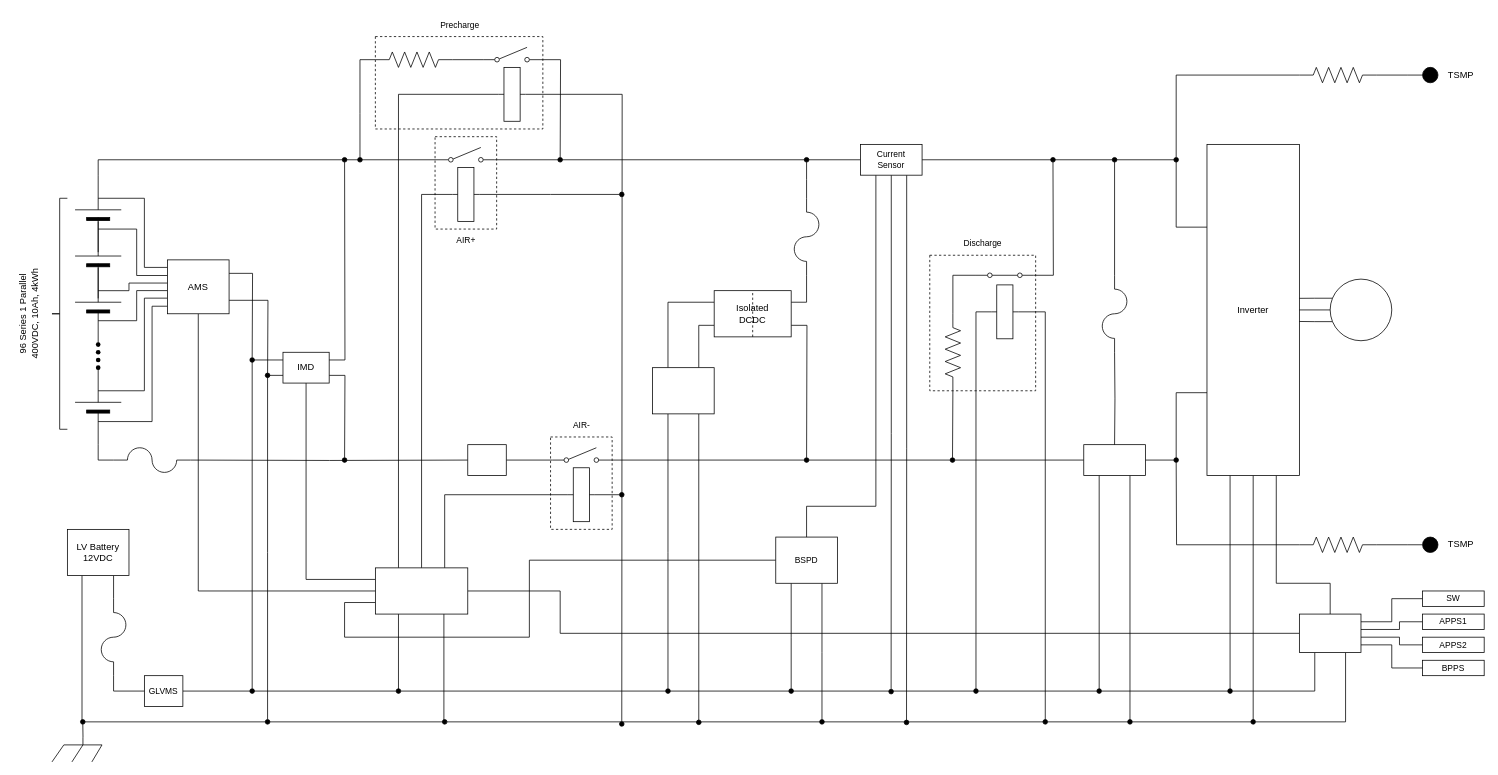
Image size: 1498x775. Some labels were removed from this diagram. Here are the shapes that lost their labels. From the top down, the centre of each, then its label:
point 1360,309: Motor
point 683,390: TSAL Circuit
point 486,459: HVD
point 1114,459: Energy Meter
point 421,590: Shutdown Circuit
point 1330,633: VCU
